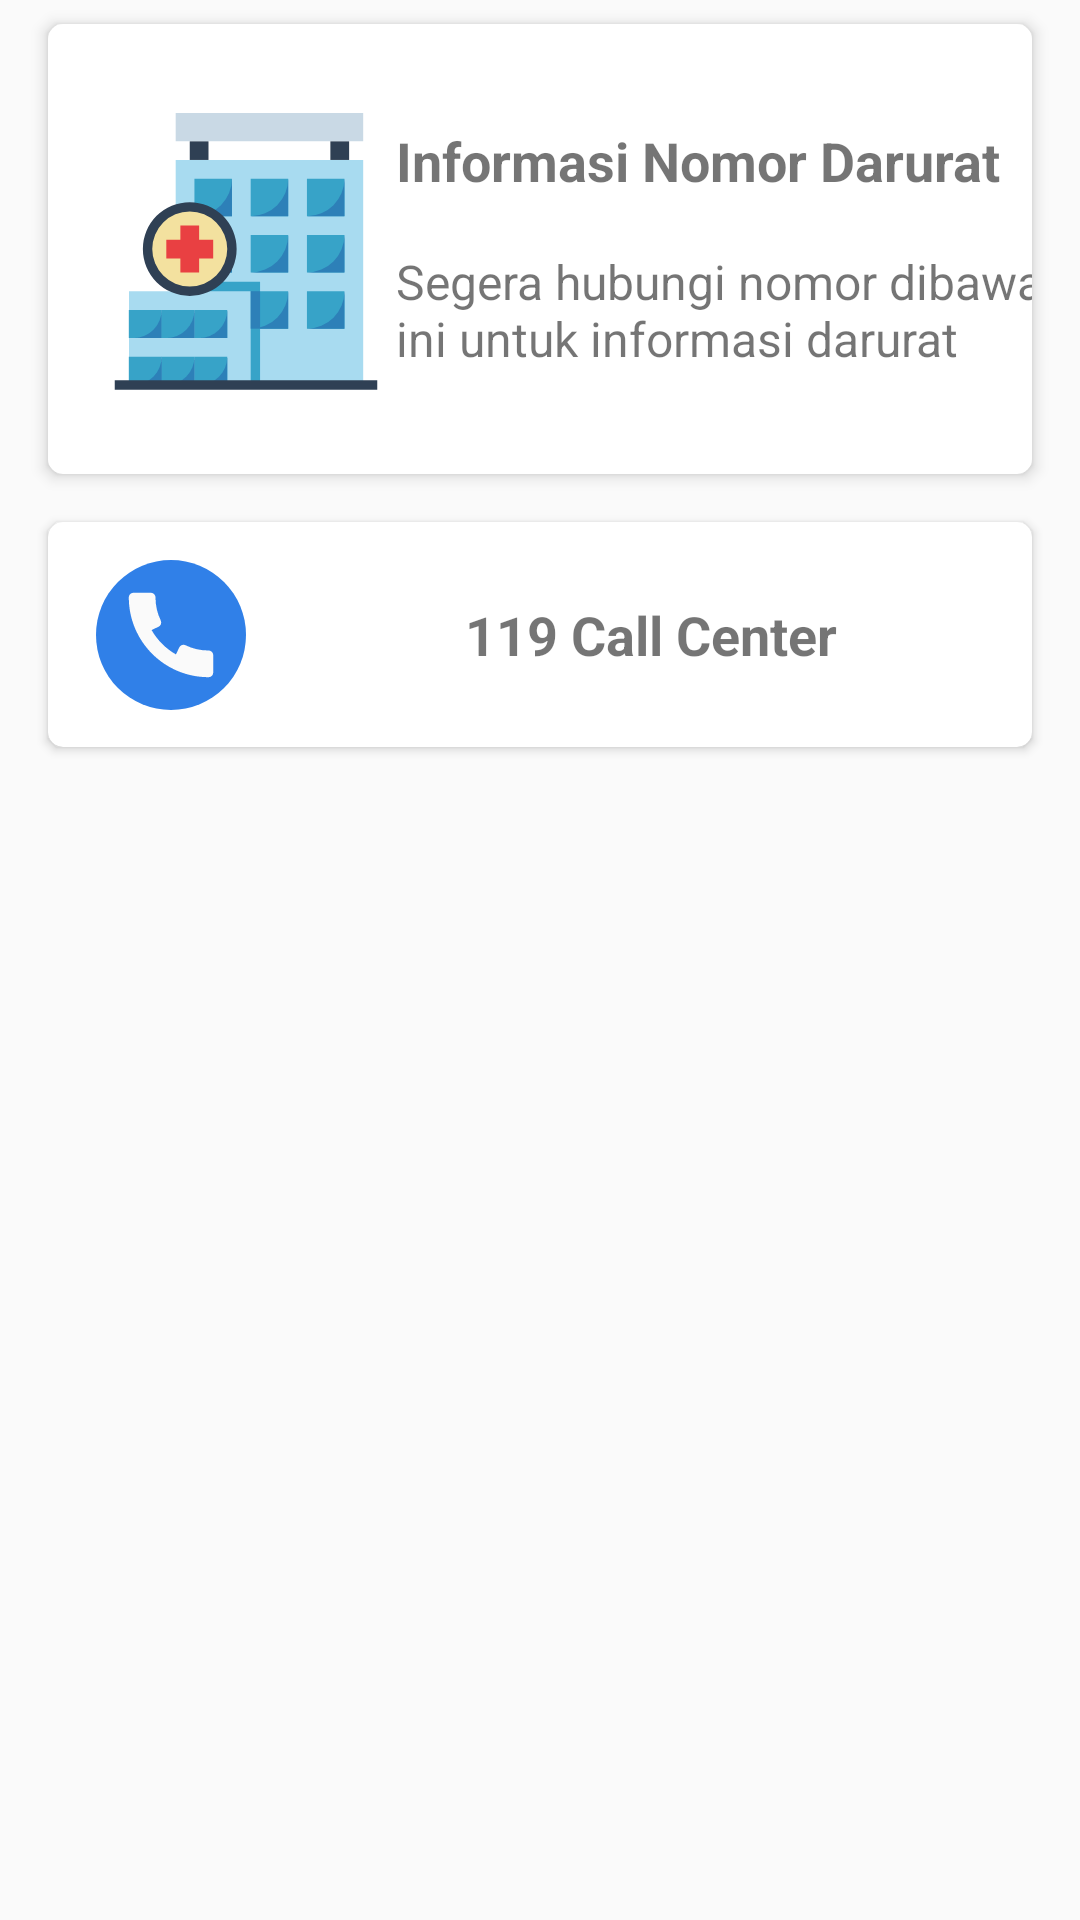

Where icons sit on this 1080*1920 app screen, as (x1, y1, x2, y2):
call: (96, 560, 246, 710)
hospital: (114, 113, 378, 390)
